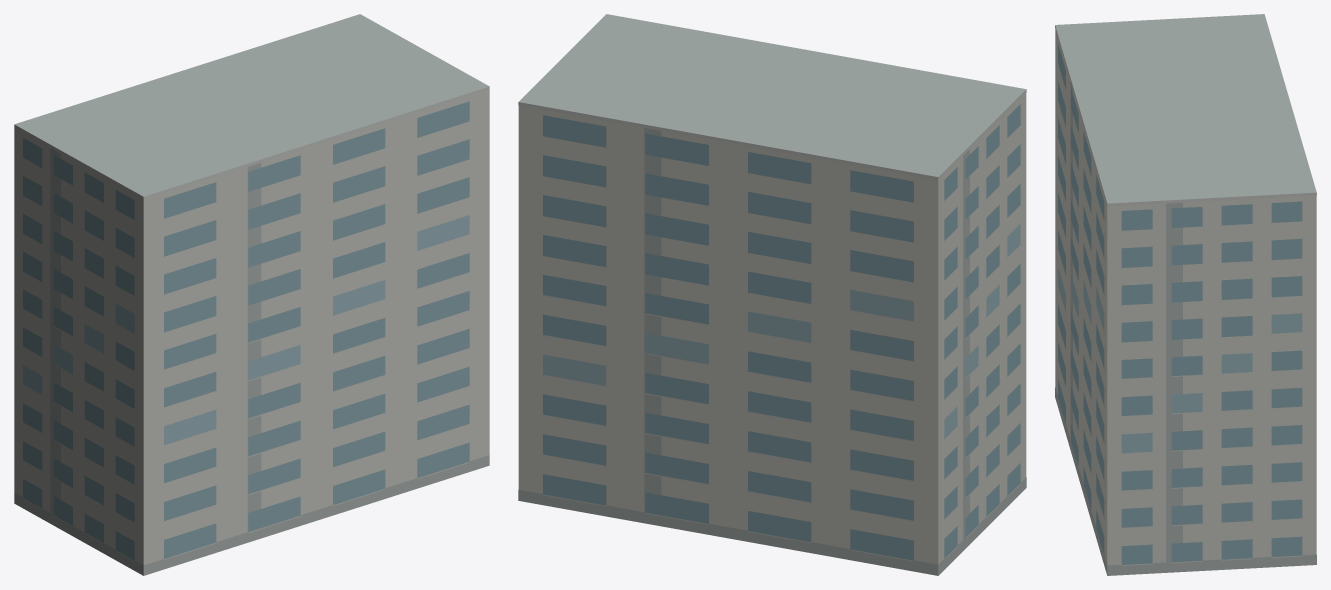
Rendered from residential-ad347dc4-234c-4308-a7e0-7cfe1b48b06c.glb.
The picture shows the model from 3 angles, left to right: view 1: azimuth 30°, elevation 25°; view 2: azimuth 150°, elevation 25°; view 3: azimuth 270°, elevation 25°; orthographic projection. The views are drawn at different scales.
Visible parts, largest first — view 1: residential-ad347dc4-234c-4308-a7e0-7cfe1b48b06c.tmp; view 2: residential-ad347dc4-234c-4308-a7e0-7cfe1b48b06c.tmp; view 3: residential-ad347dc4-234c-4308-a7e0-7cfe1b48b06c.tmp.
Part boxes in pixels (left/top/right/bottom): residential-ad347dc4-234c-4308-a7e0-7cfe1b48b06c.tmp: left=14, top=14, right=489, bottom=575; residential-ad347dc4-234c-4308-a7e0-7cfe1b48b06c.tmp: left=518, top=14, right=1026, bottom=575; residential-ad347dc4-234c-4308-a7e0-7cfe1b48b06c.tmp: left=1055, top=14, right=1316, bottom=575.
Bounding box in the file's own units: 31.67 × 29 × 18.48.
